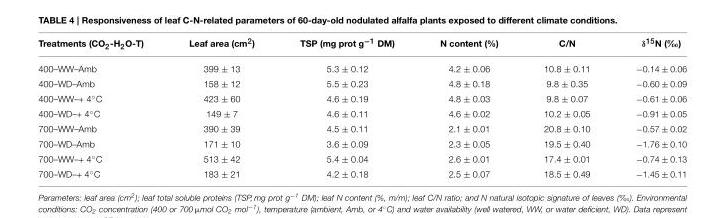table: (37, 37, 686, 178)
table column: (276, 37, 416, 178), (37, 37, 165, 178), (165, 37, 276, 178), (416, 37, 520, 178), (520, 37, 612, 178), (612, 37, 686, 178)
table column header: (37, 37, 686, 56)
table row: (37, 56, 686, 76), (37, 37, 686, 56), (37, 105, 686, 121), (37, 90, 686, 105), (37, 121, 686, 136), (37, 150, 686, 165), (37, 76, 686, 90), (37, 136, 686, 150), (37, 165, 686, 178)
